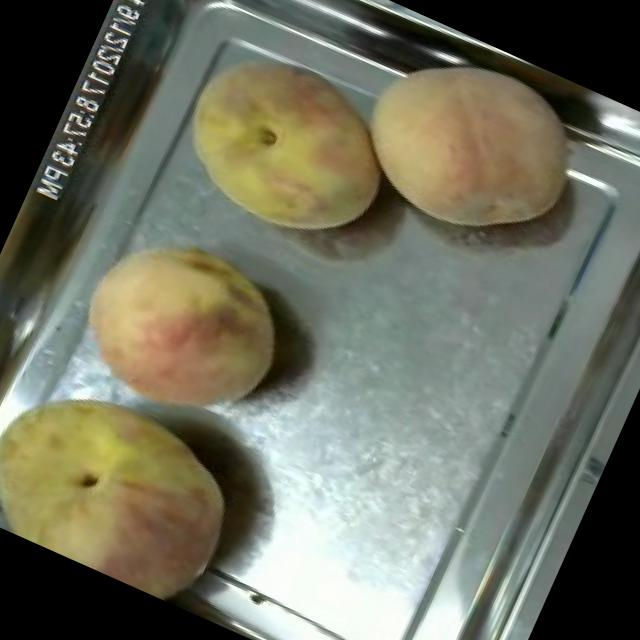Fruit: (0, 342, 271, 616), (324, 13, 608, 274), (42, 198, 316, 458), (150, 21, 422, 272)
